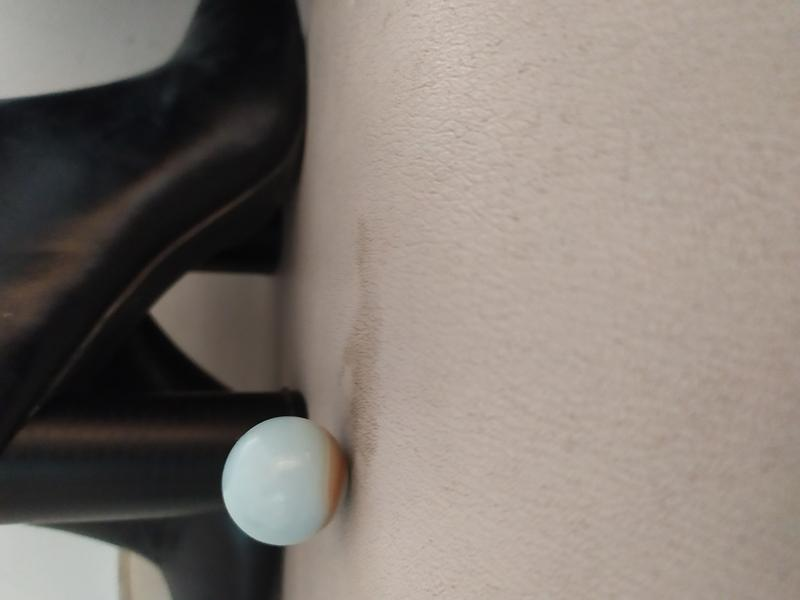Warning: (217, 413, 354, 550)
